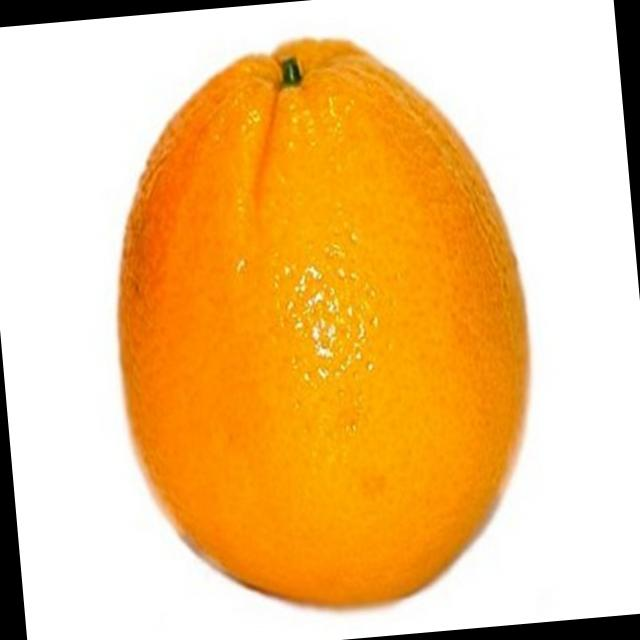orange: (95, 18, 558, 638)
